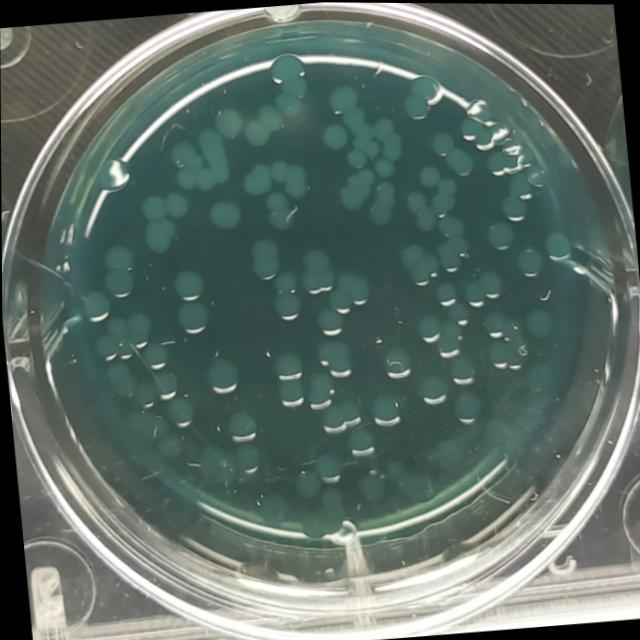other: (90, 310, 153, 363), (265, 50, 309, 119), (95, 242, 139, 305), (322, 267, 375, 316), (196, 123, 232, 187), (293, 242, 337, 293), (431, 128, 475, 179), (268, 349, 305, 409), (394, 240, 441, 287), (310, 334, 358, 380), (238, 102, 286, 148), (163, 135, 202, 191), (397, 68, 438, 118), (266, 154, 312, 198), (335, 163, 376, 212), (269, 267, 304, 324), (315, 394, 362, 435), (136, 186, 187, 222), (244, 233, 281, 282), (364, 389, 406, 432), (459, 269, 505, 308), (331, 79, 366, 130), (201, 350, 239, 396), (403, 185, 437, 235), (201, 194, 242, 234), (218, 405, 257, 446), (363, 178, 397, 224), (142, 215, 181, 255), (423, 171, 457, 216), (300, 371, 337, 412), (483, 336, 525, 372), (375, 342, 413, 381), (510, 241, 546, 280), (371, 114, 402, 159), (173, 296, 210, 333), (436, 234, 472, 272), (238, 159, 273, 198), (447, 389, 483, 426), (519, 304, 555, 341), (167, 265, 205, 300), (308, 448, 343, 485), (263, 189, 293, 231), (353, 467, 388, 502), (77, 287, 112, 321), (540, 226, 573, 262), (313, 302, 344, 338), (482, 216, 515, 249), (211, 106, 244, 139), (415, 371, 447, 405), (345, 424, 376, 459), (443, 353, 475, 386), (230, 443, 262, 476), (164, 395, 195, 429), (139, 336, 171, 368), (148, 367, 179, 400), (318, 118, 349, 151), (291, 467, 322, 499), (498, 192, 528, 225), (484, 147, 518, 176), (413, 311, 442, 344), (478, 308, 508, 338), (431, 329, 460, 359), (130, 379, 158, 409), (429, 279, 459, 305), (505, 170, 531, 200), (446, 298, 473, 326), (436, 213, 462, 240), (416, 163, 441, 189), (343, 144, 367, 170), (372, 154, 394, 179)
